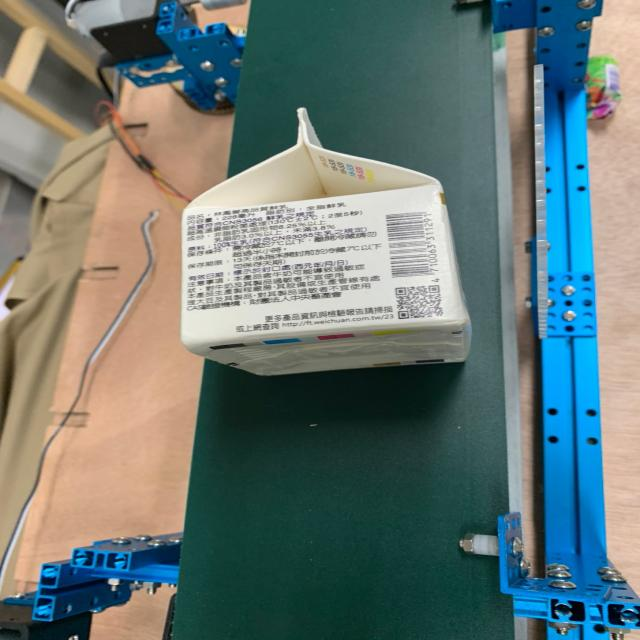non_white_jug: (153, 100, 501, 396)
